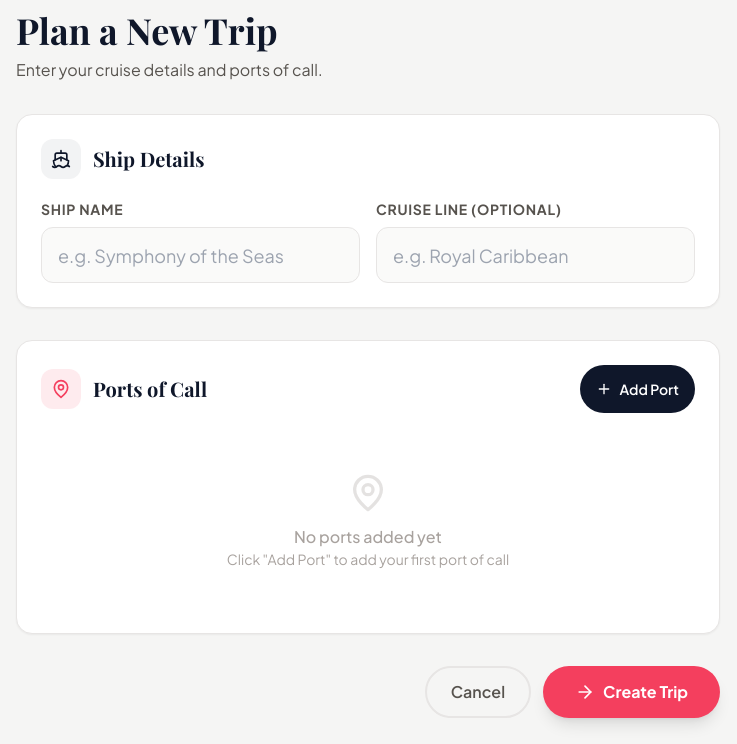
Test: TripSetup — ship name autocomplete › shows dropdown with suggestions on focus
This screenshot has width=737, height=744.
Focus the field with test id "ship-name-input" at coordinates (200, 255), box [41,227,360,283]
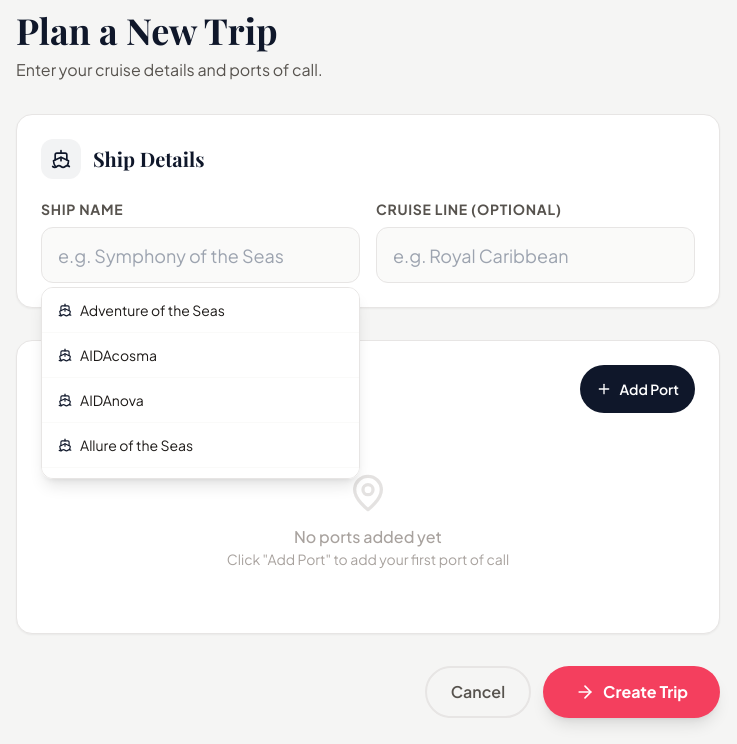
expect the element with test id "ship-suggestions" is shown: met, box [41,287,360,479]
